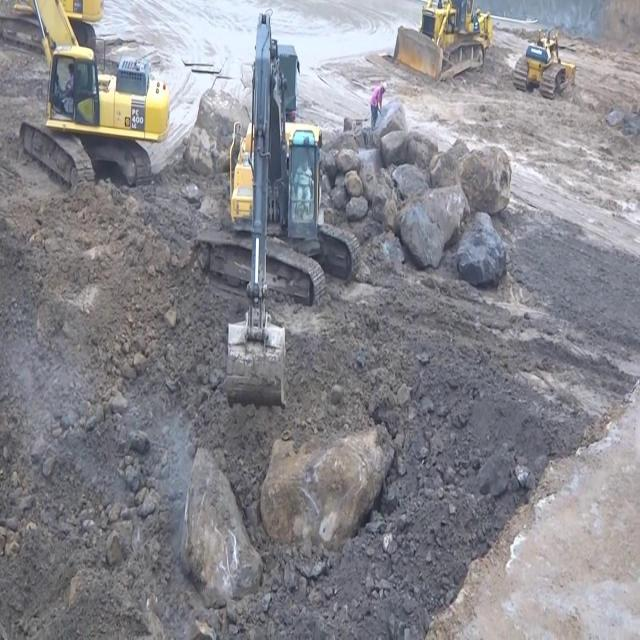Excavator: (190, 8, 362, 408), (17, 0, 172, 192)
Loader: (511, 27, 577, 101)
